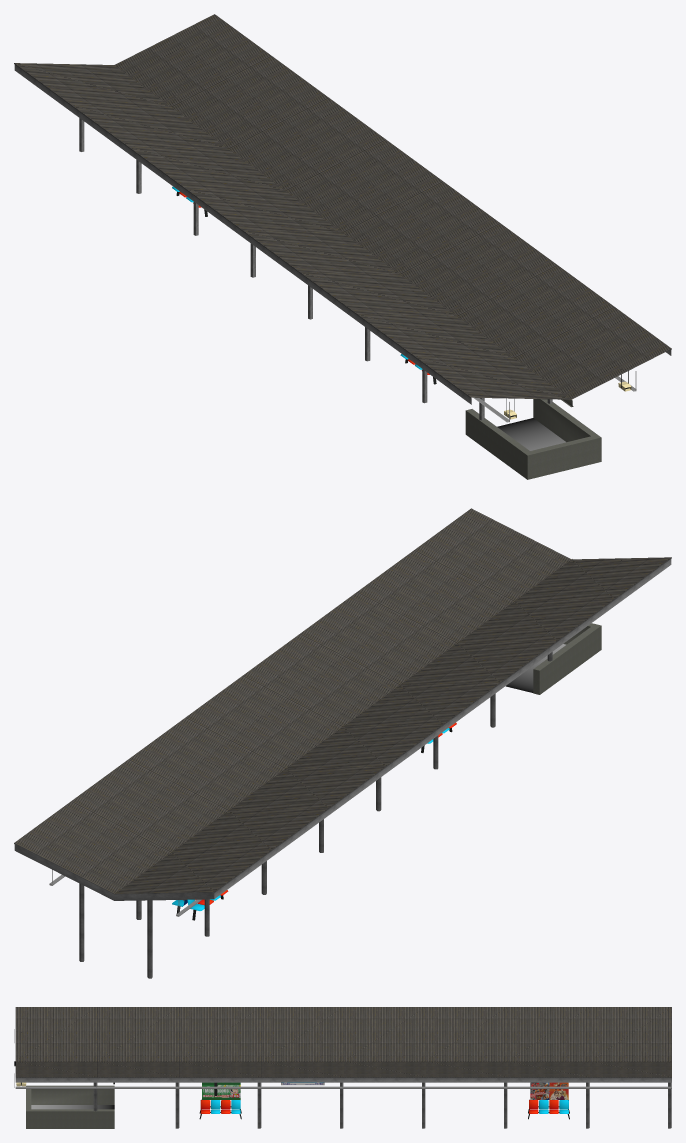
Rendered from AMB_HOME_YANE1_CENTER_KQ.glb.
The picture shows the model from 3 angles, top to bottom: view 1: azimuth 30°, elevation 25°; view 2: azimuth 150°, elevation 25°; view 3: azimuth 270°, elevation 25°; orthographic projection. The views are drawn at different scales.
Parts seen in each view (by area): view 1: Mesh1, J07; view 2: Mesh1, J07; view 3: Mesh1, J07, obj24, obj22.
Part boxes in pixels (<box>): Mesh1: <box>14,14,671,422</box>; J07: <box>465,399,601,479</box>; Mesh1: <box>14,508,671,978</box>; J07: <box>506,623,601,694</box>; Mesh1: <box>14,1007,671,1128</box>; J07: <box>26,1082,114,1128</box>; obj24: <box>528,1082,569,1119</box>; obj22: <box>199,1082,241,1119</box>.
Size of the model in its own units: 25.35 by 12.42 by 100.
41 materials, 39 textured.
